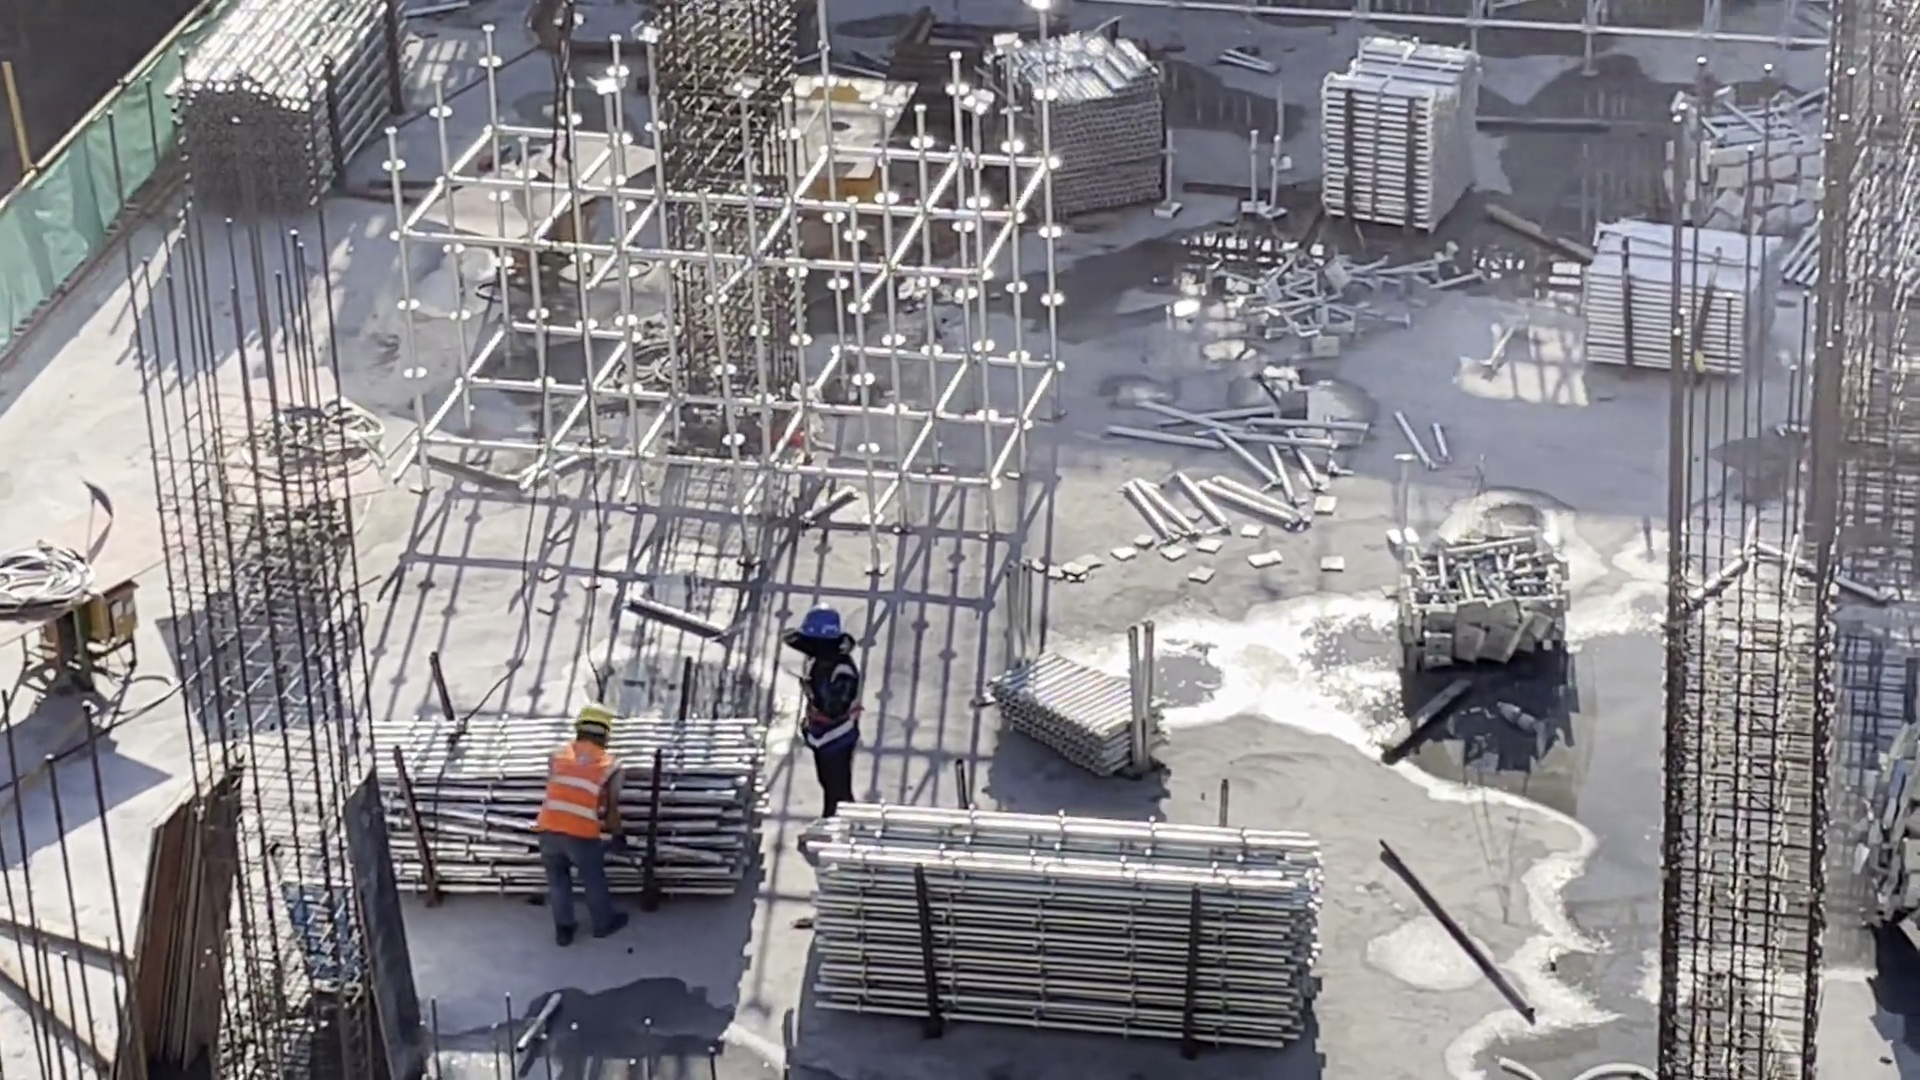board: (113, 773, 225, 1080)
cutter: (177, 364, 417, 563), (1, 471, 182, 683), (430, 130, 662, 290), (751, 82, 933, 250)
helmet: (792, 606, 844, 652), (580, 700, 617, 738)
person: (537, 704, 644, 945), (767, 600, 869, 853)
scaffold: (821, 794, 1321, 1050), (314, 713, 766, 892), (207, 1, 415, 209), (985, 36, 1163, 219), (1586, 221, 1768, 393), (1321, 43, 1483, 232), (1377, 526, 1567, 662), (1014, 628, 1176, 762), (1668, 97, 1844, 216), (1230, 252, 1396, 347)
vest: (543, 745, 608, 843), (799, 662, 860, 759)
